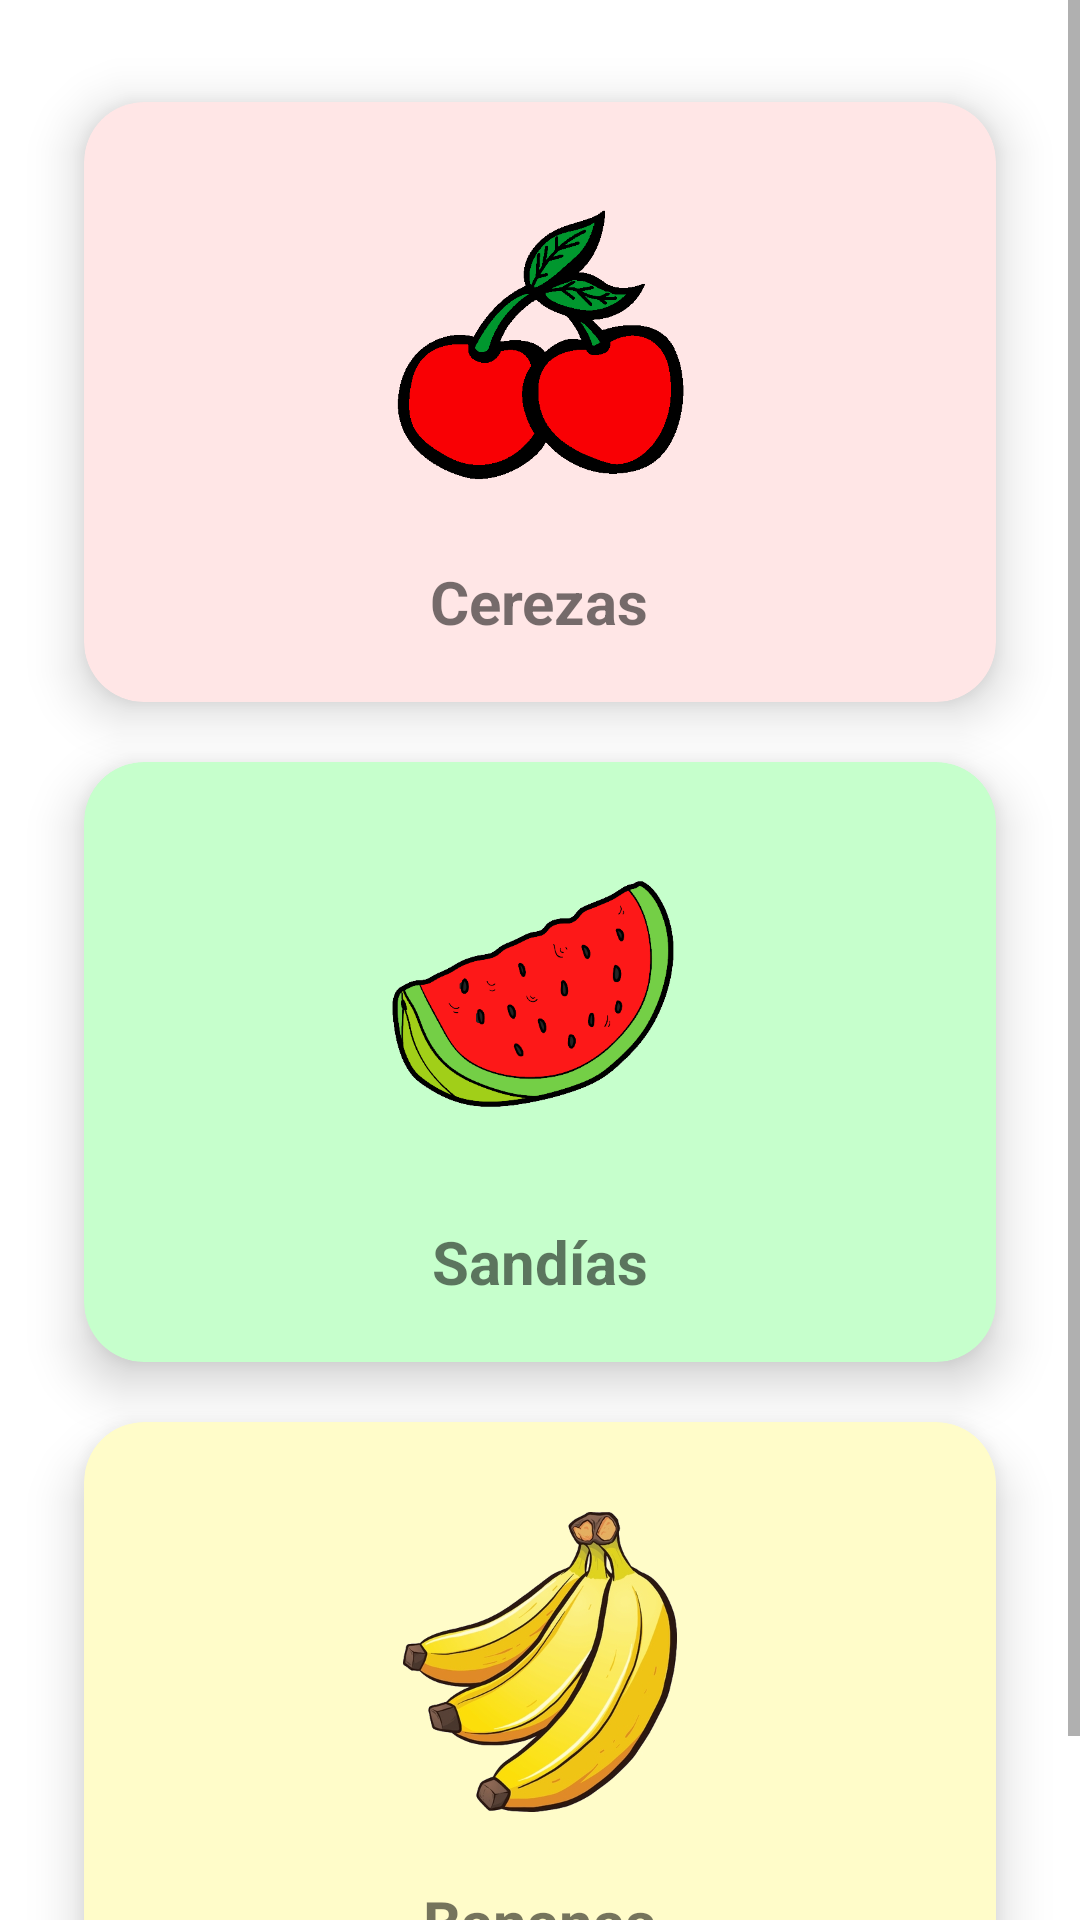

Where icons sit on this 1080px x 1920px app screen, as bbox=(x1, y1, x2, y2):
sandia: bbox=(392, 881, 674, 1107)
